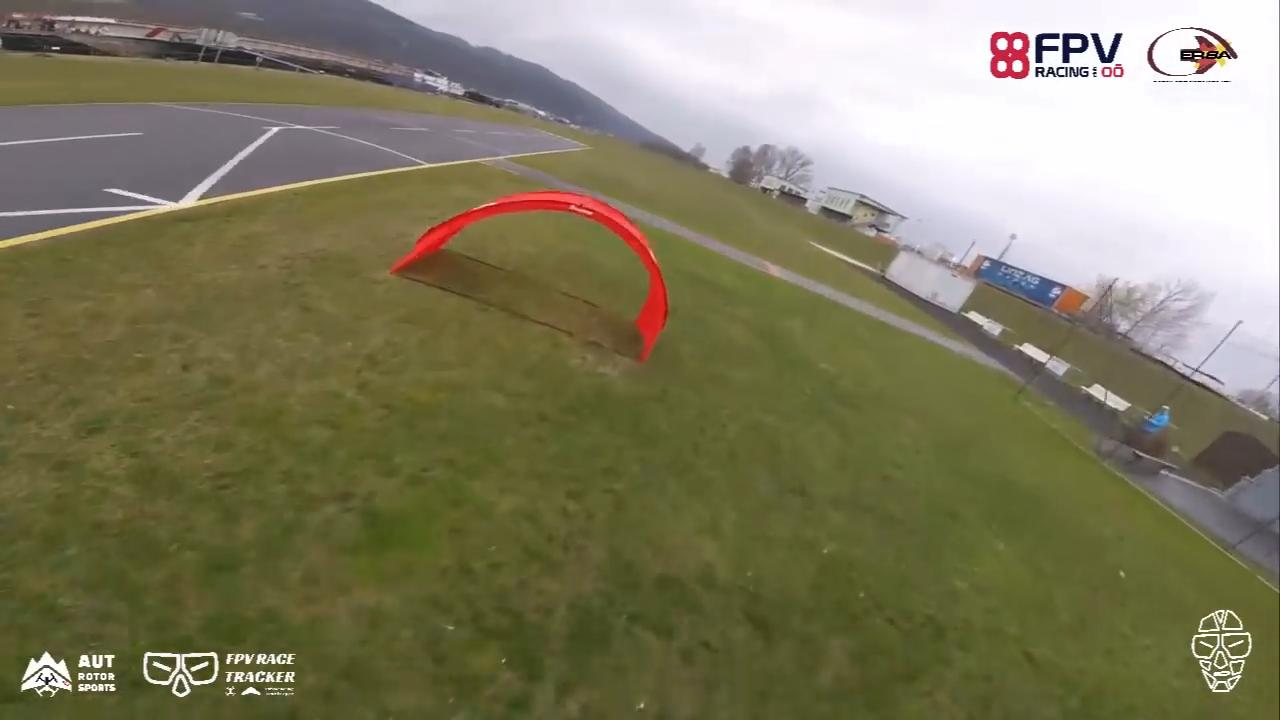gate: (385, 185, 670, 372)
